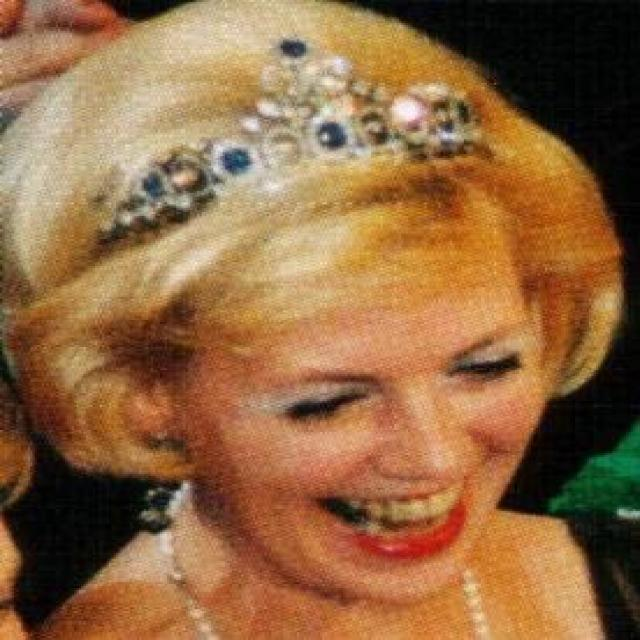Earring: (129, 412, 199, 550)
